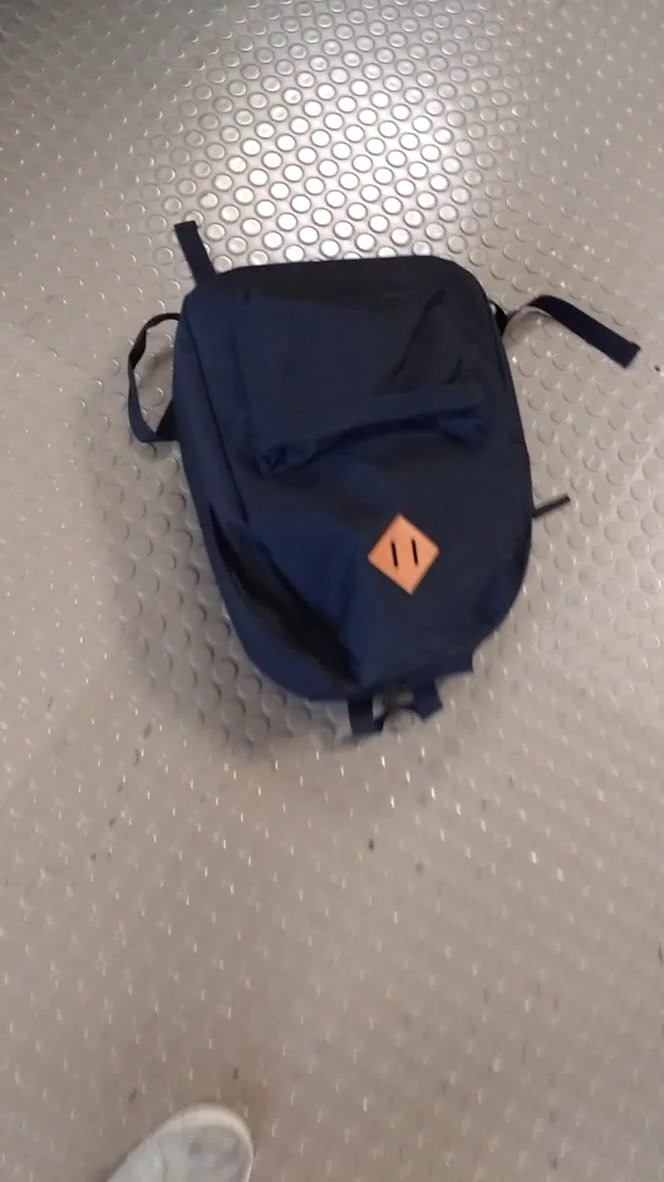bag: (112, 197, 645, 761)
